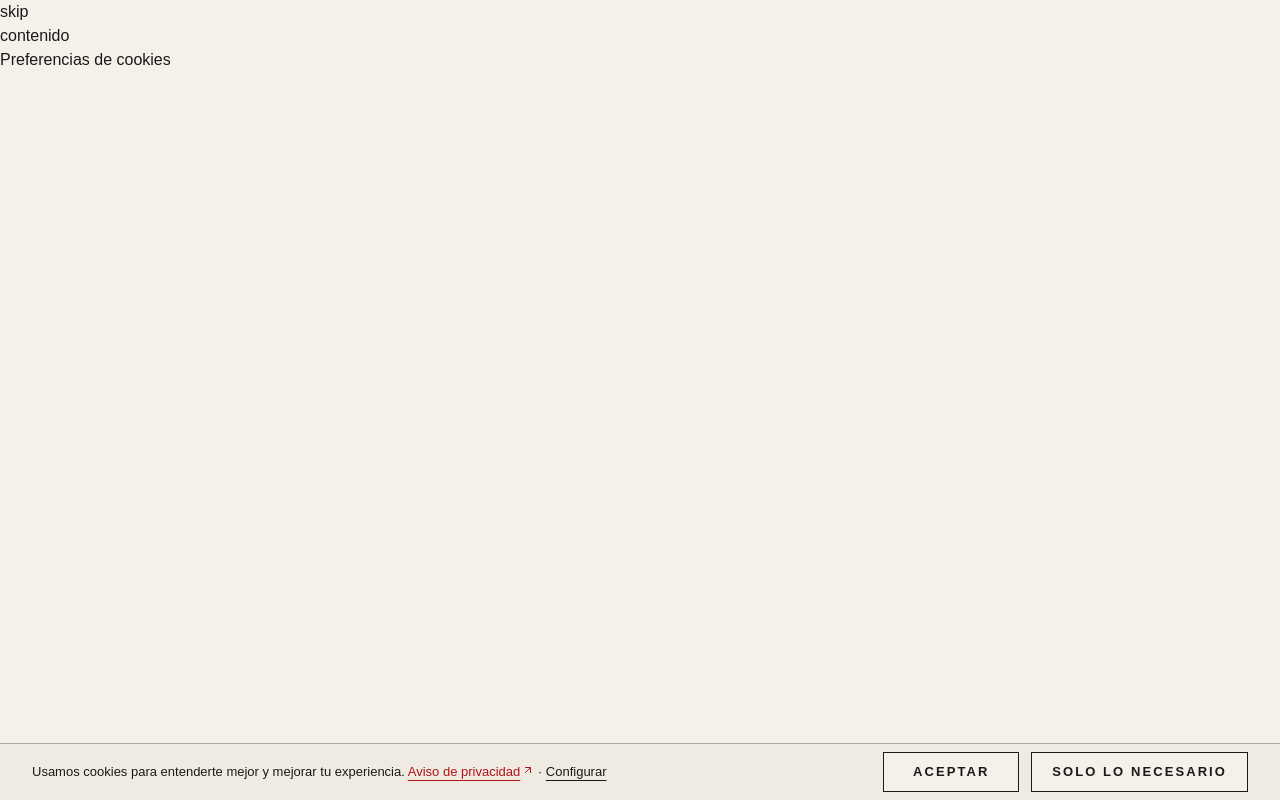
it: C-F13 · segunda capa › Esc y Cancelar cierran SIN cookie ni banner-response y el foco vuelve a Configurar
Click the button "Configurar" at (576, 772), box [546,763,606,781]
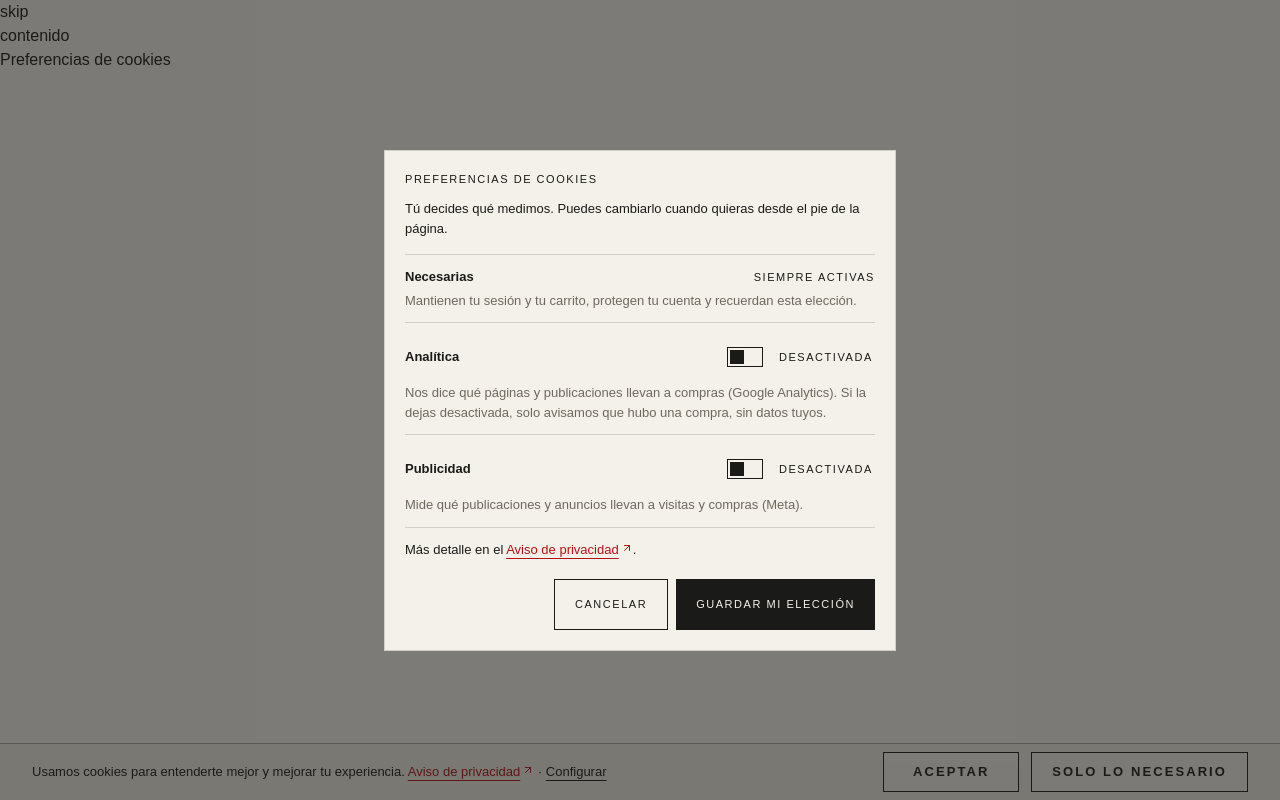
Click the switch named "Analítica" at (745, 357), box [723,335,767,379]
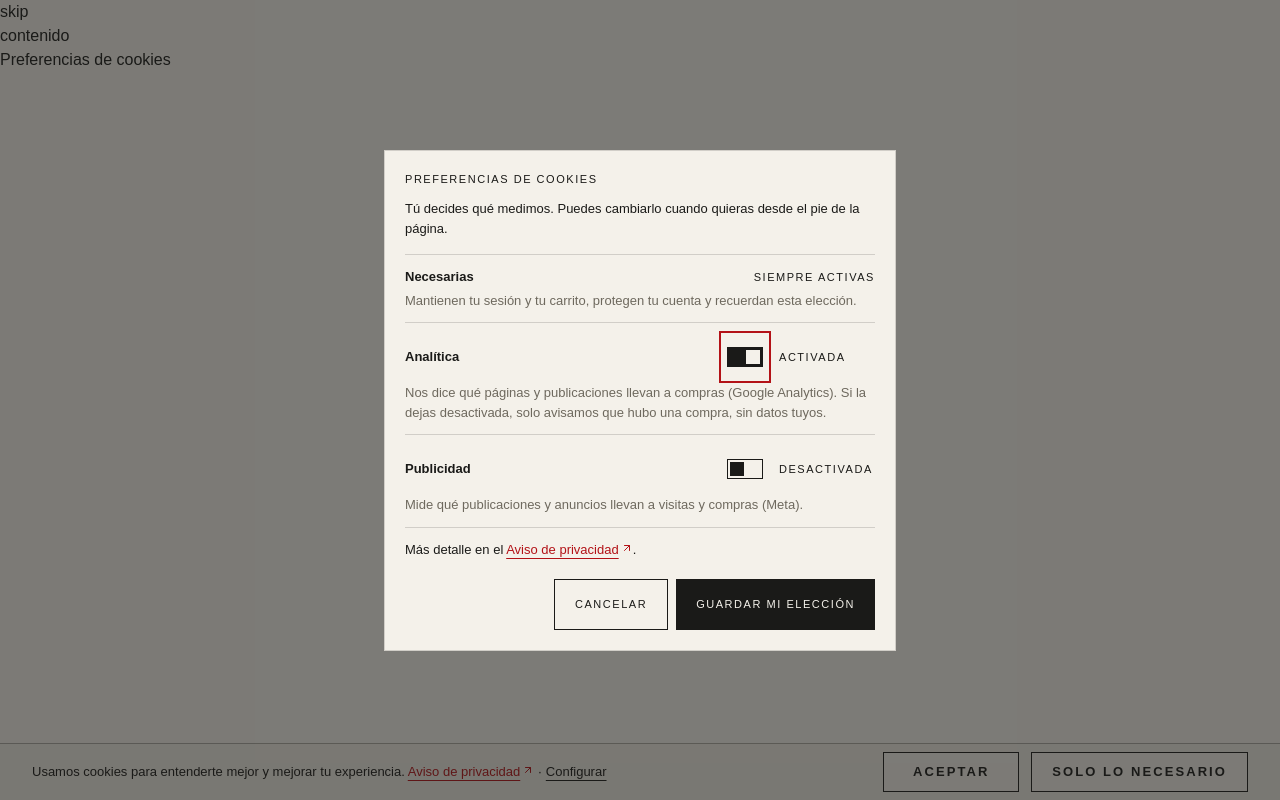
Press Escape
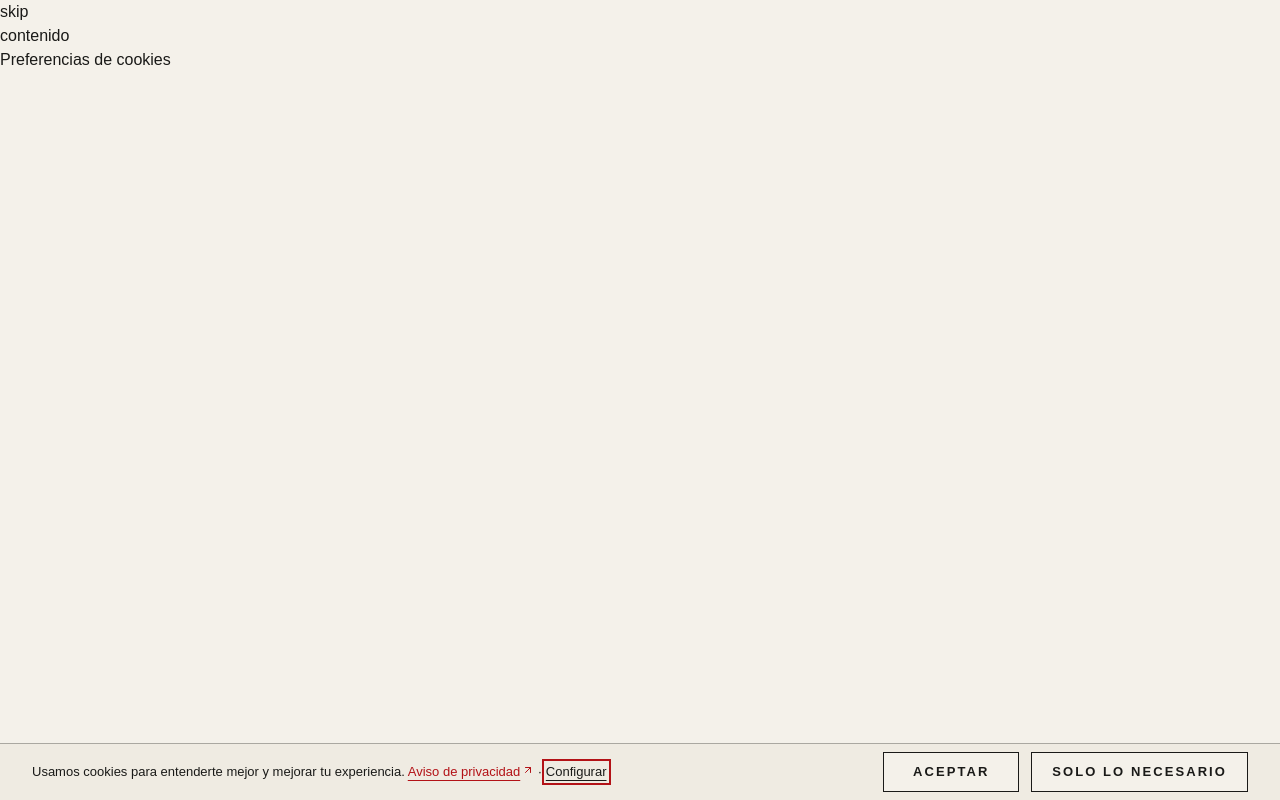
Expected: the dialog is gone
Click the button "Configurar" at (576, 772), box [546,763,606,781]
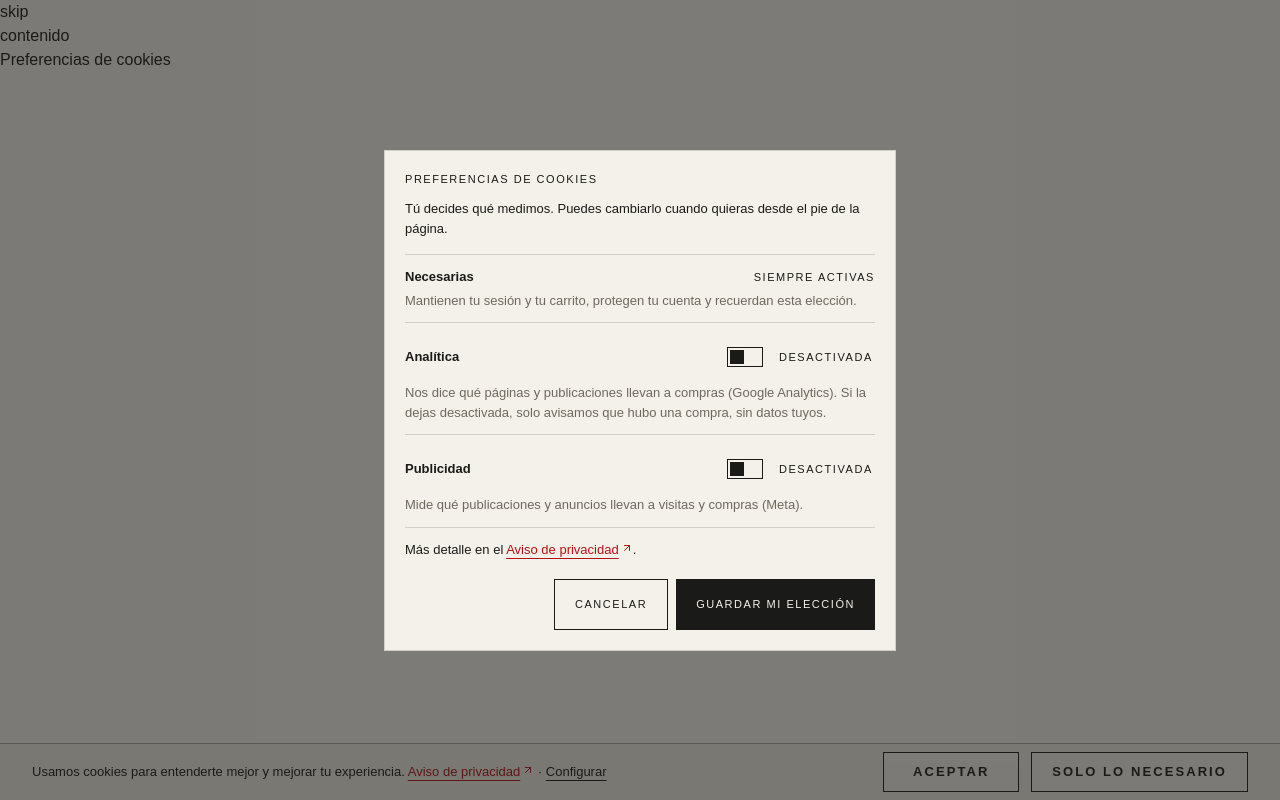
Click the button "Cancelar" at (611, 604), box [554,579,668,630]
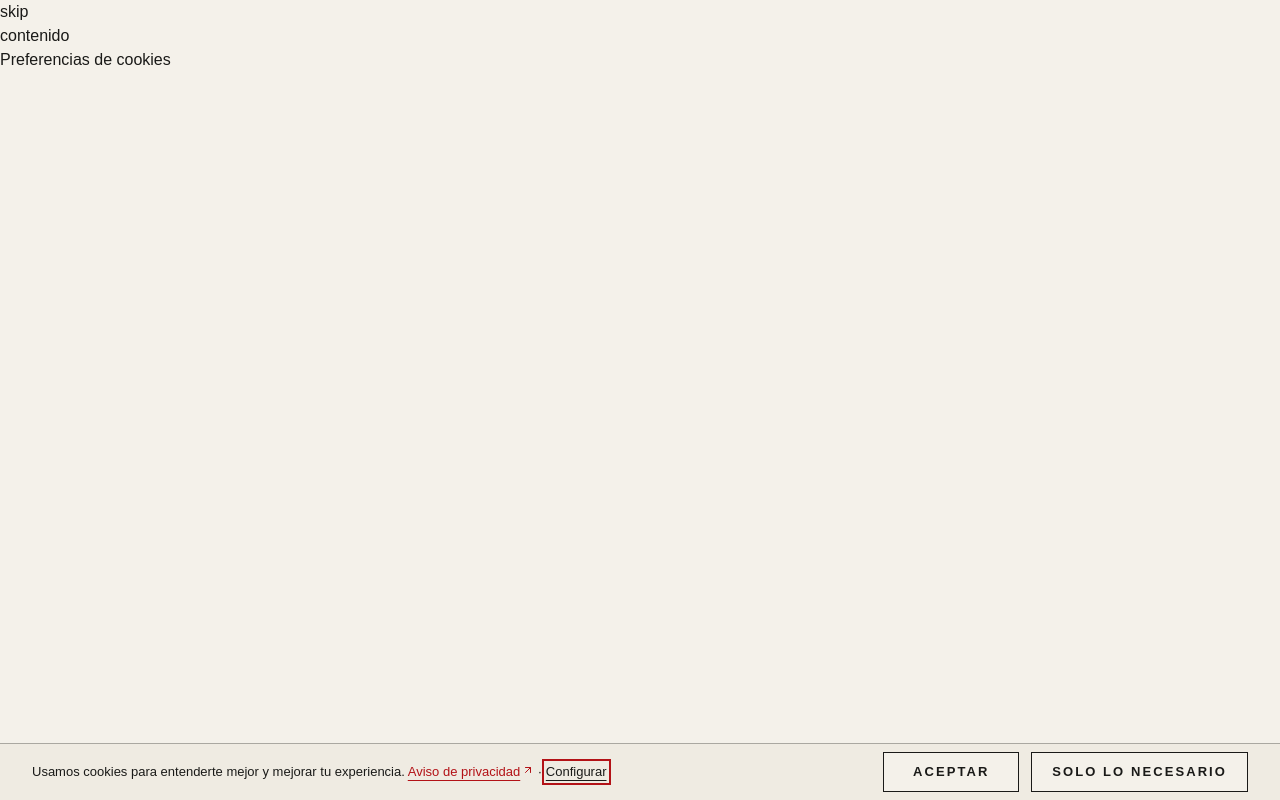
Expected: the element with test id "consent-banner" is shown, [0,743,1279,799]
Expected: the dialog is gone
